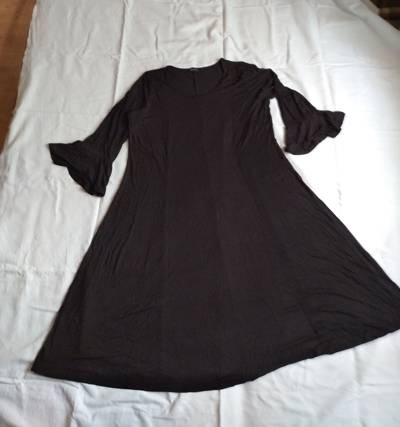Dress: (21, 57, 390, 392)
